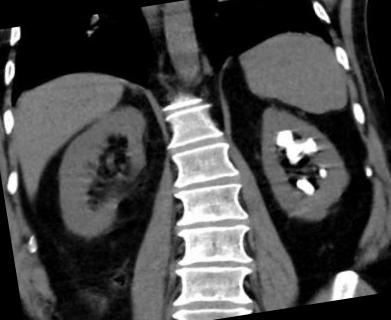Tas_Var: (272, 122, 320, 160), (293, 173, 317, 200), (316, 167, 328, 181), (302, 147, 318, 154), (292, 156, 301, 162)
